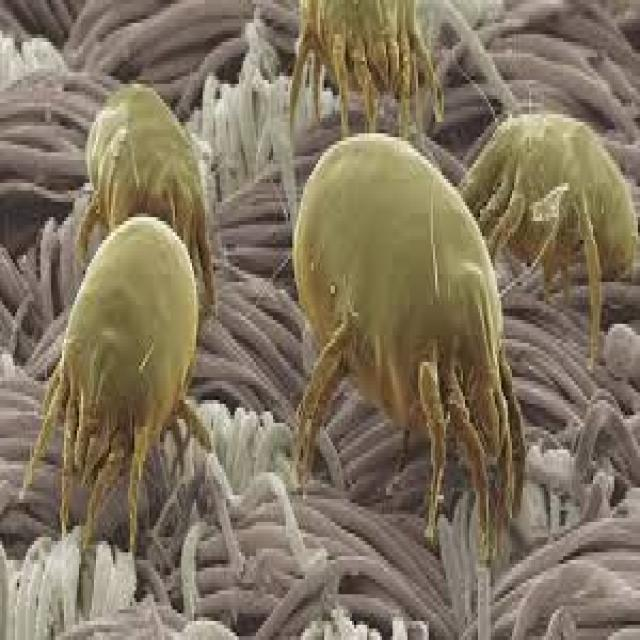Mites: (268, 131, 524, 537), (56, 217, 203, 560), (452, 110, 640, 301), (80, 72, 226, 278), (281, 0, 445, 160)
